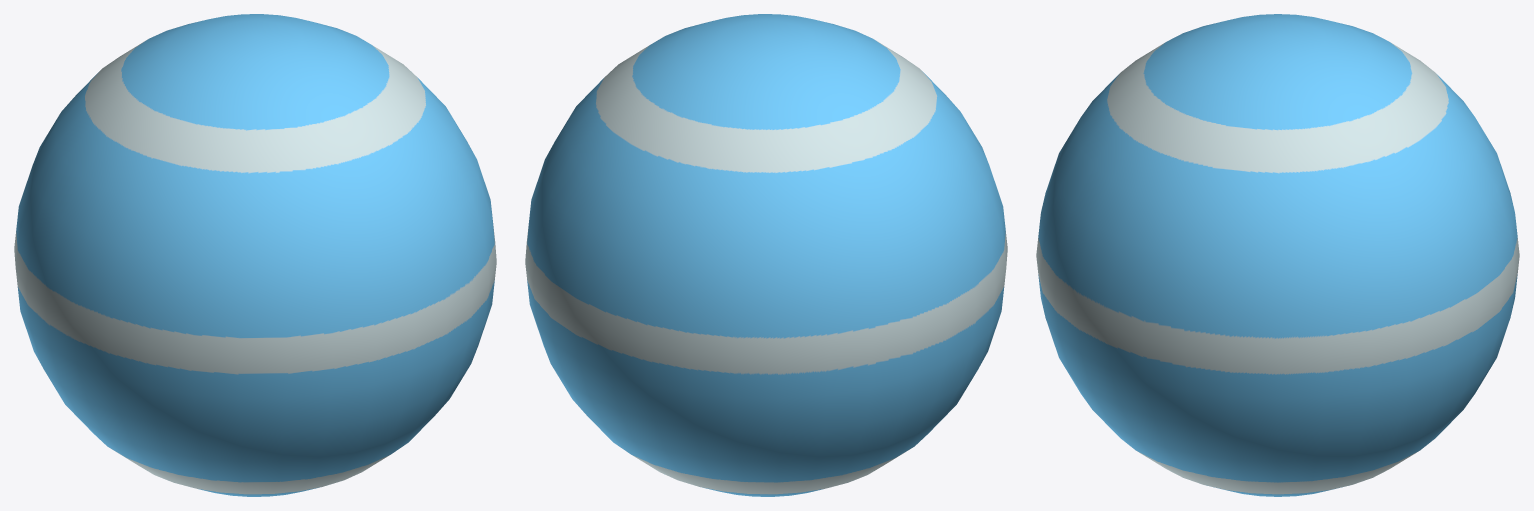
Rendered from bola biru.fbx.
3 views of the same model, side by side, from view 1: azimuth 30°, elevation 25°; view 2: azimuth 150°, elevation 25°; view 3: azimuth 270°, elevation 25° (orthographic).
Visible parts, largest first — view 1: bola biru; view 2: bola biru; view 3: bola biru.
Part boxes in pixels (bbox=[...]): bola biru: bbox=[14, 14, 496, 496]; bola biru: bbox=[525, 14, 1007, 496]; bola biru: bbox=[1036, 14, 1519, 496].
Bounding box in the file's own units: 200 × 200 × 200.
1 material, 1 textured.
